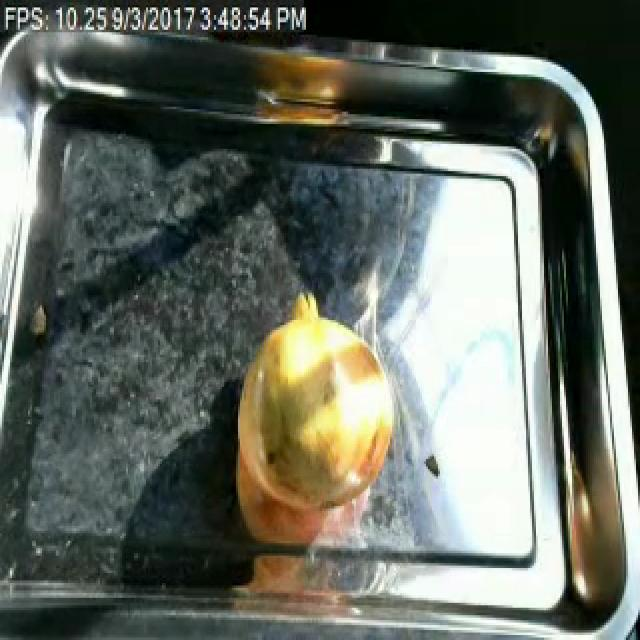fruit: (230, 293, 404, 528)
